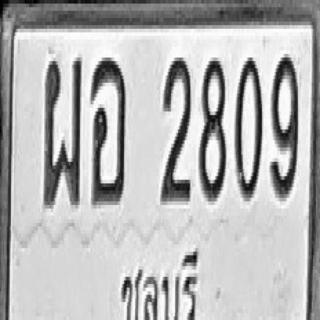A28: (44, 56, 82, 207)
A43: (90, 58, 125, 205)
N00: (234, 54, 262, 202)
N02: (161, 54, 191, 202)
N08: (199, 56, 226, 200)
N09: (270, 54, 298, 198)
P13: (116, 245, 204, 320)
